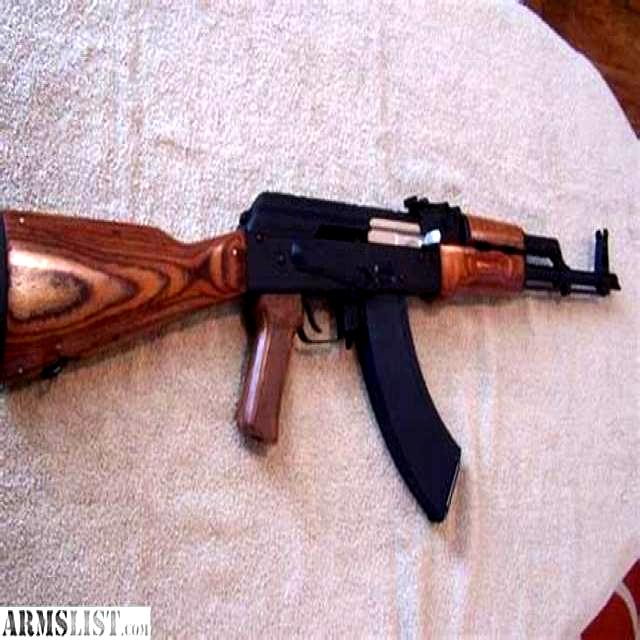ak: (0, 177, 624, 528)
